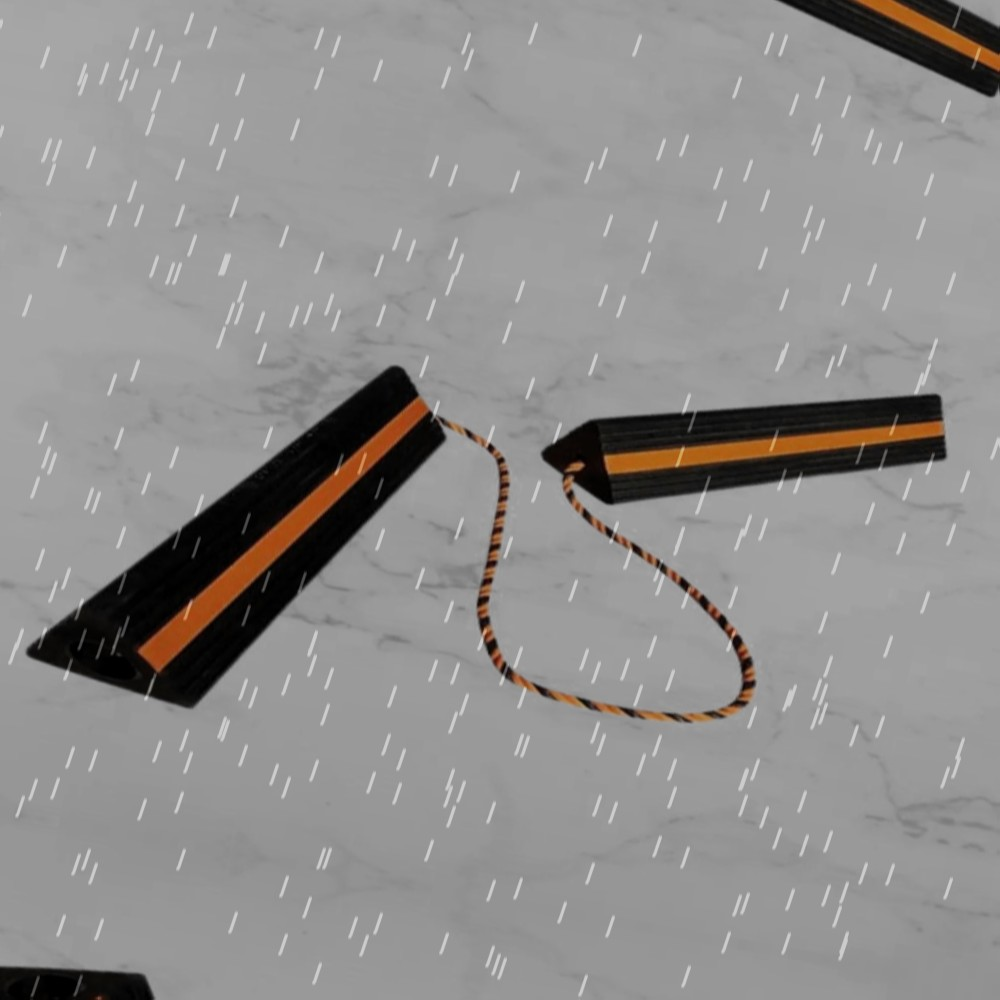chock: (12, 303, 459, 752), (535, 325, 961, 564), (618, 0, 1000, 105)
